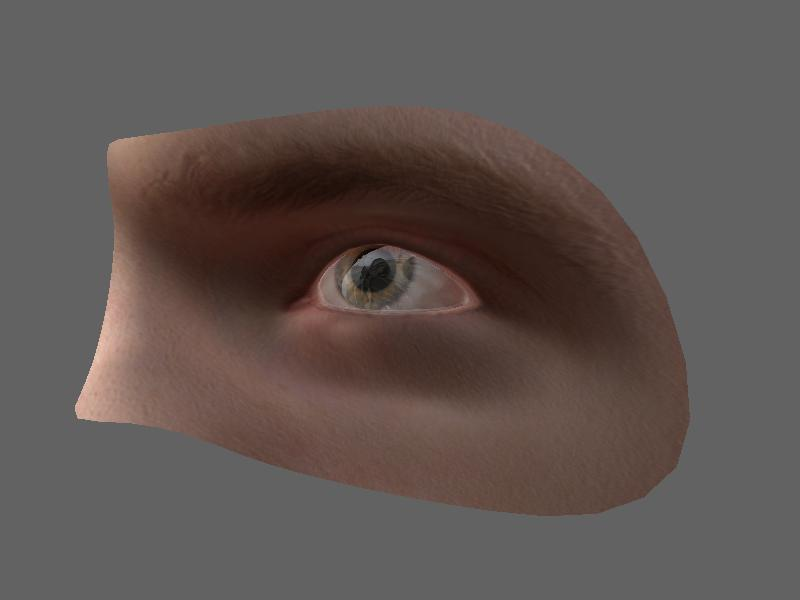iris: (329, 242, 420, 306)
